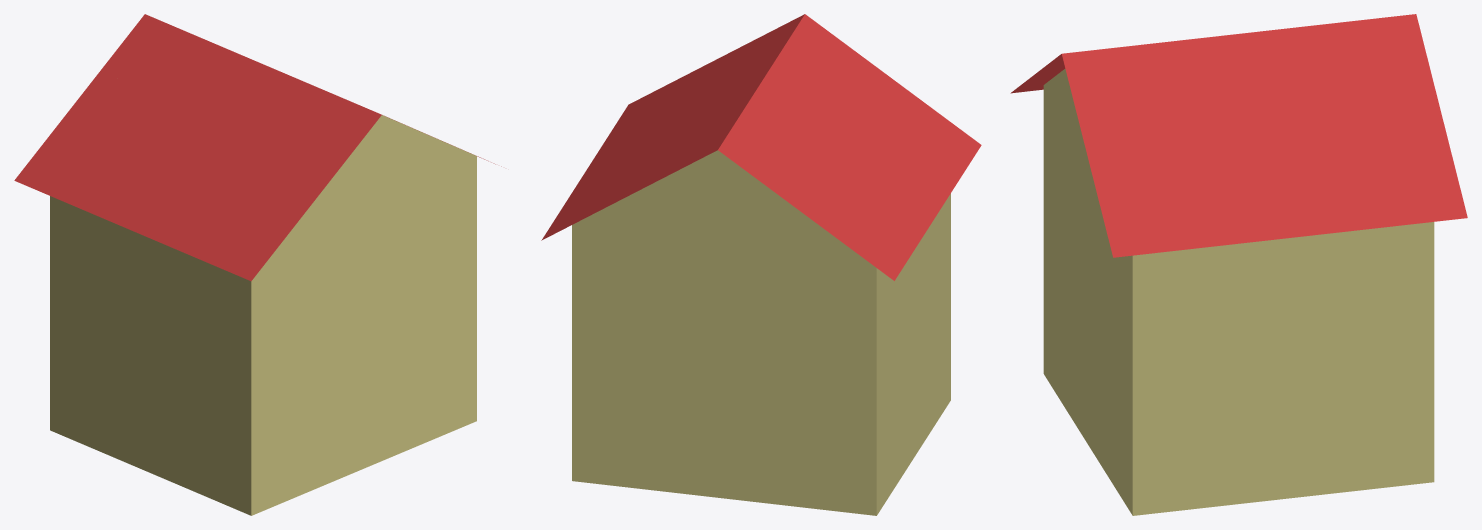
3 views of the same model, side by side, from view 1: azimuth 30°, elevation 25°; view 2: azimuth 150°, elevation 25°; view 3: azimuth 270°, elevation 25° (orthographic). The views are drawn at different scales.
Visible parts, largest first — view 1: group_5, group_3, group_4; view 2: group_5, group_3, group_4; view 3: group_5, group_3, group_4.
Part boxes in pixels (<box>): group_5: <box>50,115,476,515</box>; group_3: <box>15,15,381,279</box>; group_4: <box>14,14,501,281</box>; group_5: <box>572,150,950,515</box>; group_3: <box>572,14,950,280</box>; group_4: <box>541,15,981,280</box>; group_5: <box>1043,69,1434,515</box>; group_3: <box>1010,14,1466,257</box>; group_4: <box>1057,15,1467,257</box>.
Bounding box in the file's own units: 13.14 × 12.45 × 11.84.
